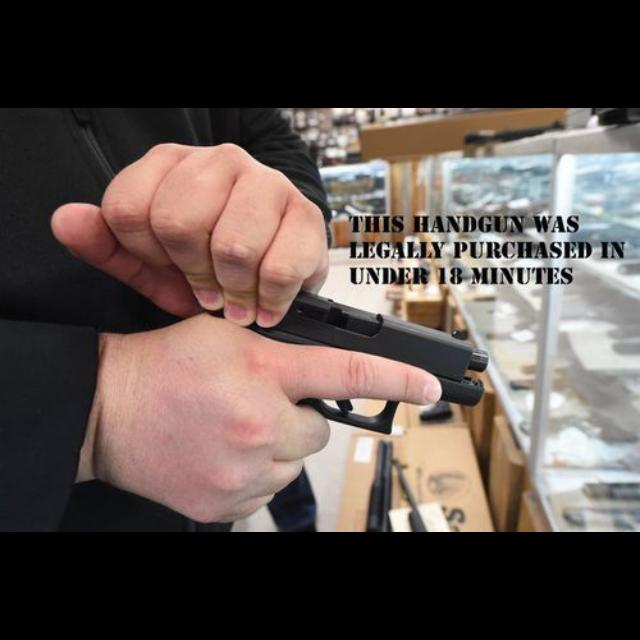handgun: (282, 266, 492, 432)
